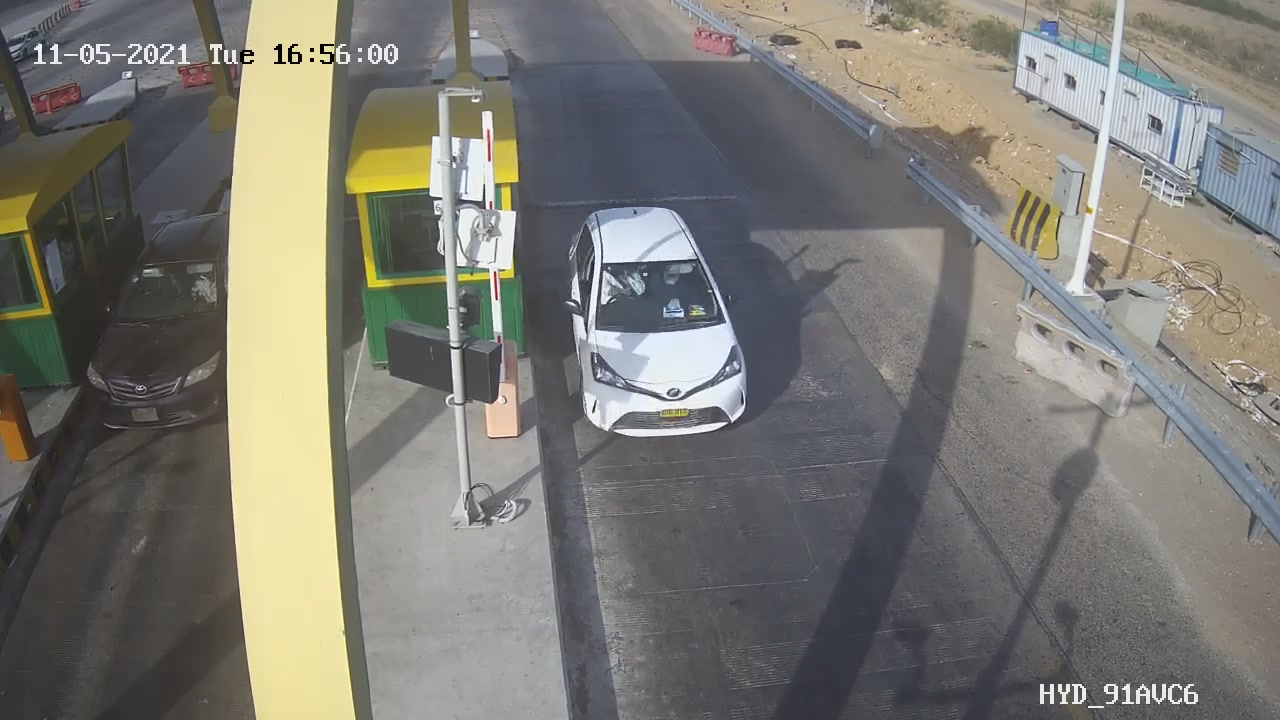F1: (542, 187, 776, 465)
